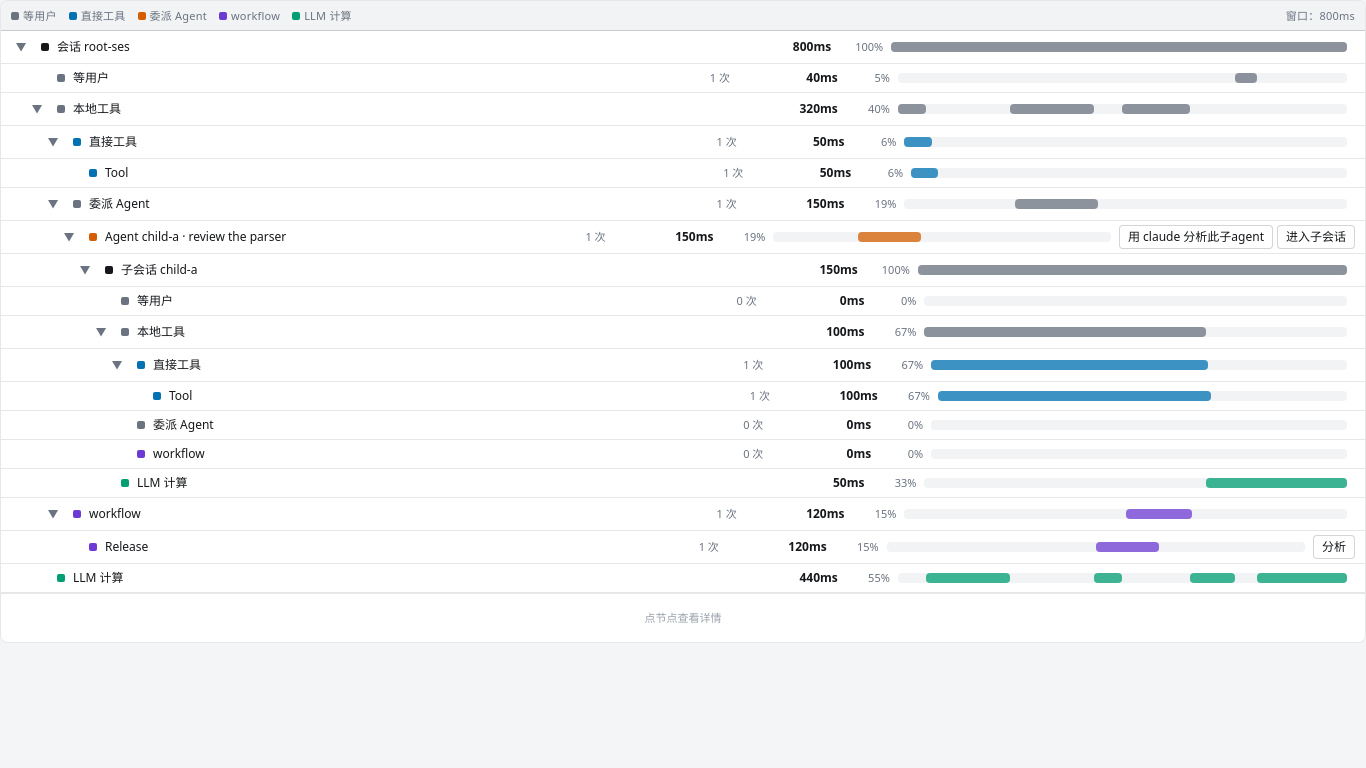
Test: TreeView › shows node details when a row is clicked
Expected: the element showing "点节点查看详情" is shown, x1=1 y1=593 x2=1365 y2=642
Click the list item "▼ 本地工具 320ms 40%" at (683, 110), box x1=1 y1=93 x2=1365 y2=126
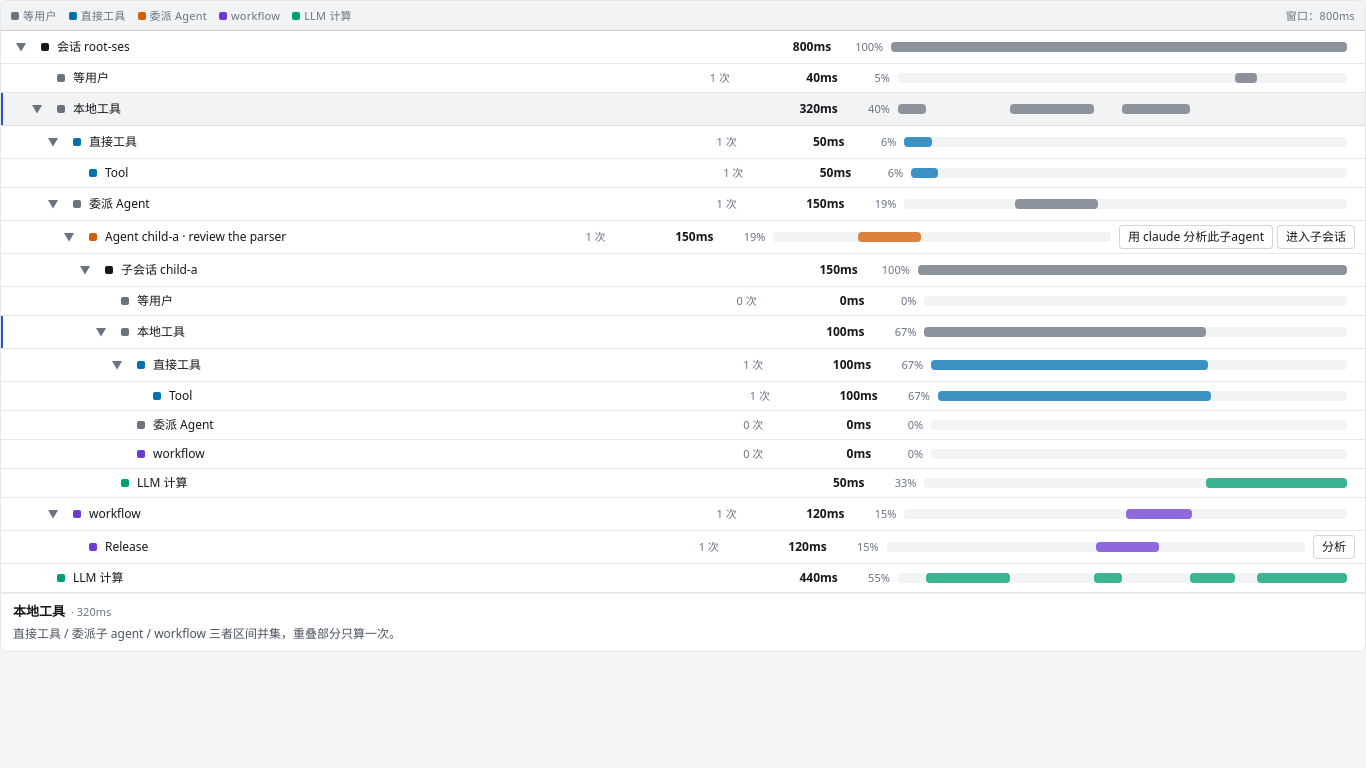
Result: the element named "节点详情" shows "本地工具" at x1=13 y1=602 x2=65 y2=620
Result: the element named "节点详情" shows "直接工具 / 委派子 agent / workflow 三者区间并集" at x1=13 y1=625 x2=401 y2=642
